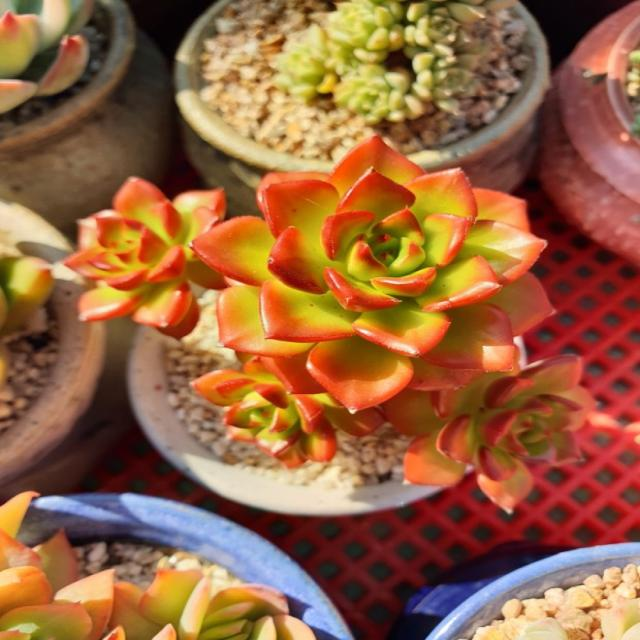Letizia: (192, 136, 552, 411), (383, 355, 595, 511)
